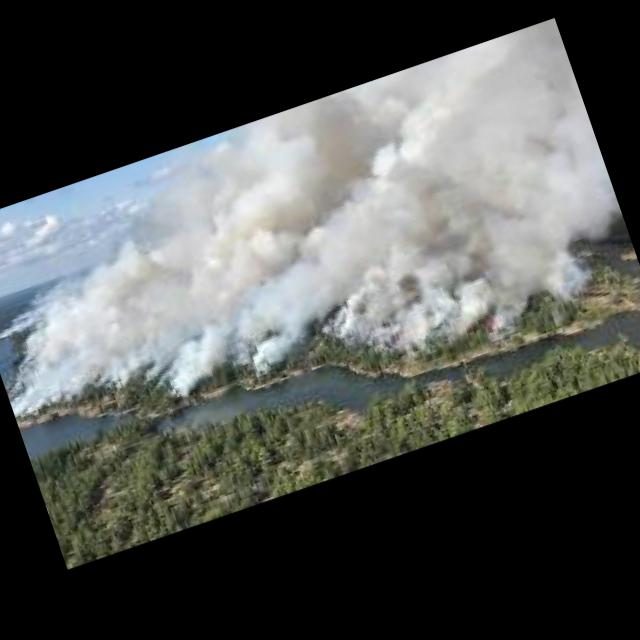smoke: (0, 30, 638, 494)
